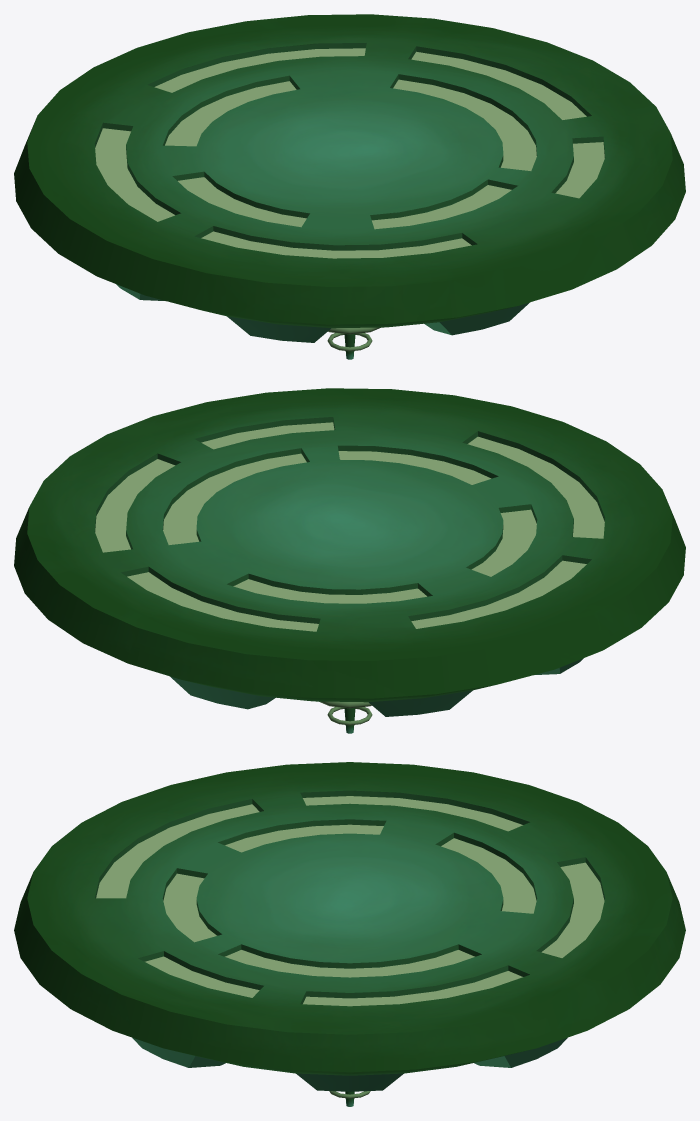
File: platform_3.fbx
The picture shows the model from 3 angles, top to bottom: view 1: azimuth 30°, elevation 25°; view 2: azimuth 150°, elevation 25°; view 3: azimuth 270°, elevation 25°; orthographic projection.
Parts seen in each view (by area): view 1: platform_3; view 2: platform_3; view 3: platform_3.
Boxes of the visible parts, x1,y1,x2,y2 form: platform_3: (14, 14, 685, 359); platform_3: (14, 388, 685, 733); platform_3: (14, 762, 685, 1106).
Size of the model in its own units: 1246 by 424 by 1246.
